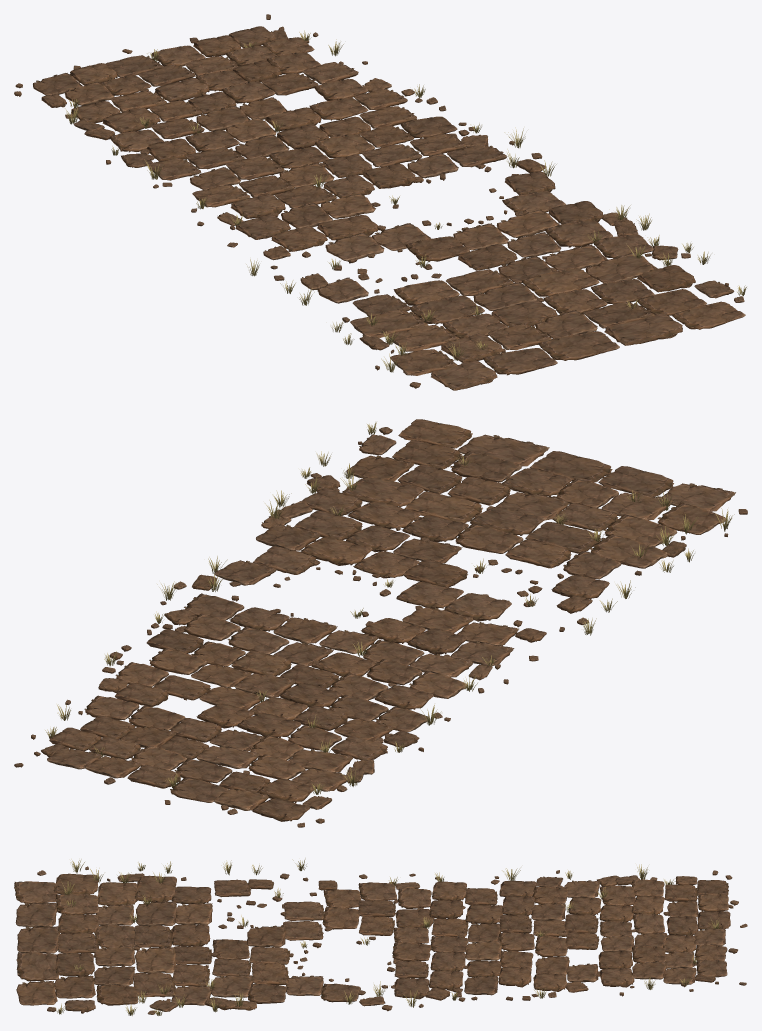
File: cracked_road.glb
3 views of the same model, one above another, from view 1: azimuth 30°, elevation 25°; view 2: azimuth 150°, elevation 25°; view 3: azimuth 270°, elevation 25° (orthographic). The views are drawn at different scales.
Parts seen in each view (by area): view 1: StonePaving.006, DryGrass.006, FineGravel.006; view 2: StonePaving.006, DryGrass.006, FineGravel.006; view 3: StonePaving.006, DryGrass.006, FineGravel.006.
Part boxes in pixels (box(x1,y1,x2,y2)): StonePaving.006: box(33, 26, 745, 390); DryGrass.006: box(65, 30, 746, 372); FineGravel.006: box(14, 14, 744, 388); StonePaving.006: box(41, 419, 735, 821); DryGrass.006: box(45, 422, 734, 794); FineGravel.006: box(14, 427, 747, 827); StonePaving.006: box(14, 873, 730, 1012); DryGrass.006: box(55, 858, 720, 1015); FineGravel.006: box(37, 866, 747, 1014).
Bounding box in the file's own units: 2.89 × 0.1456 × 5.93.
2 materials, 1 textured.
